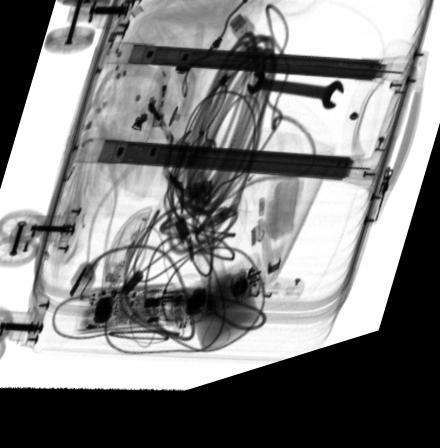Wrench: (246, 85, 344, 129)
